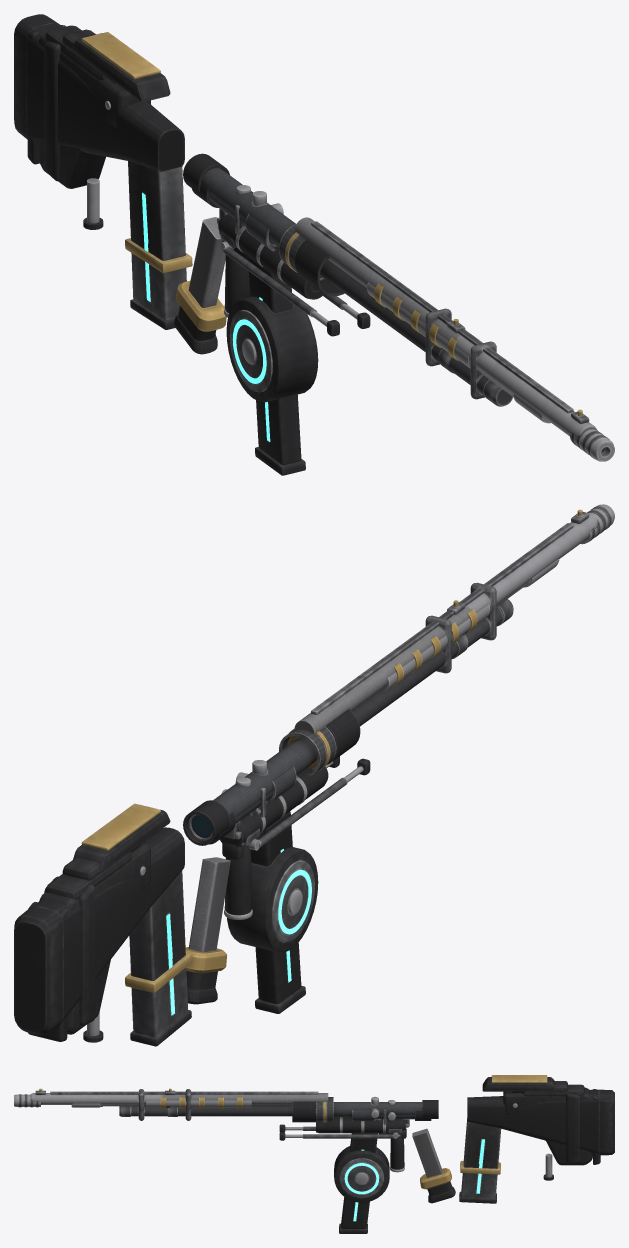
Rendered from proto_attachments.glb.
3 renders of one model, top to bottom at view 1: azimuth 30°, elevation 25°; view 2: azimuth 150°, elevation 25°; view 3: azimuth 270°, elevation 25°, orthographic. The views are drawn at different scales.
Parts seen in each view (by area): view 1: Shotgun_HeavyStock, Shotgun_LongBarrel, AR_Drum, Marksman_HeavyStock, LongScope, Marksman_ExtendedMagazine, AR_HeavyStock, AR_ExtendedMagazine, Marksman_QuickMagazine, Shotgun_ShortBarrel, Pistol_ExtendedMagazine, Marksman_LongBarrel (+5 smaller); view 2: Shotgun_HeavyStock, Shotgun_LongBarrel, Marksman_ExtendedMagazine, AR_Drum, LongScope, Marksman_HeavyStock, Shotgun_ShortBarrel, Pistol_ExtendedMagazine, AR_HeavyStock, AR_ExtendedMagazine, Pistol_QuickMagazine, Suppressor (+5 smaller); view 3: Shotgun_HeavyStock, Shotgun_LongBarrel, AR_Drum, Marksman_HeavyStock, LongScope, Marksman_ExtendedMagazine, Marksman_QuickMagazine, AR_HeavyStock, Shotgun_ShortBarrel, AR_ExtendedMagazine, Marksman_LongBarrel, Suppressor (+6 smaller).
Boxes of the visible parts, x1,y1,x2,y2 form: Shotgun_HeavyStock: [14, 14, 184, 171]; Shotgun_LongBarrel: [294, 217, 596, 437]; AR_Drum: [226, 256, 318, 402]; Marksman_HeavyStock: [44, 32, 170, 229]; LongScope: [183, 153, 344, 296]; Marksman_ExtendedMagazine: [128, 161, 186, 329]; AR_HeavyStock: [27, 25, 150, 188]; AR_ExtendedMagazine: [248, 259, 305, 475]; Marksman_QuickMagazine: [125, 160, 192, 273]; Shotgun_ShortBarrel: [295, 218, 465, 373]; Pistol_ExtendedMagazine: [174, 217, 225, 354]; Marksman_LongBarrel: [367, 282, 614, 461]; Shotgun_HeavyStock: [14, 827, 184, 1035]; Shotgun_LongBarrel: [294, 509, 597, 738]; Marksman_ExtendedMagazine: [130, 871, 191, 1046]; AR_Drum: [227, 811, 318, 952]; LongScope: [183, 709, 360, 845]; Marksman_HeavyStock: [44, 803, 170, 1042]; Shotgun_ShortBarrel: [300, 600, 470, 733]; Pistol_ExtendedMagazine: [186, 857, 230, 1004]; AR_HeavyStock: [28, 842, 150, 1041]; AR_ExtendedMagazine: [255, 811, 305, 1013]; Pistol_QuickMagazine: [185, 860, 229, 973]; Suppressor: [220, 766, 328, 847]; Shotgun_HeavyStock: [467, 1084, 614, 1155]; Shotgun_LongBarrel: [31, 1088, 328, 1120]; AR_Drum: [334, 1132, 389, 1202]; Marksman_HeavyStock: [482, 1075, 580, 1180]; LongScope: [292, 1096, 438, 1122]; Marksman_ExtendedMagazine: [459, 1122, 501, 1203]; Marksman_QuickMagazine: [460, 1118, 500, 1174]; AR_HeavyStock: [503, 1081, 600, 1165]; Shotgun_ShortBarrel: [162, 1088, 328, 1120]; AR_ExtendedMagazine: [339, 1132, 375, 1233]; Marksman_LongBarrel: [14, 1094, 251, 1108]; Suppressor: [316, 1117, 405, 1133].
Bounding box in the file's own units: 0.062 × 0.352 × 1.25.
Materials: 1 (1 with a texture image).
